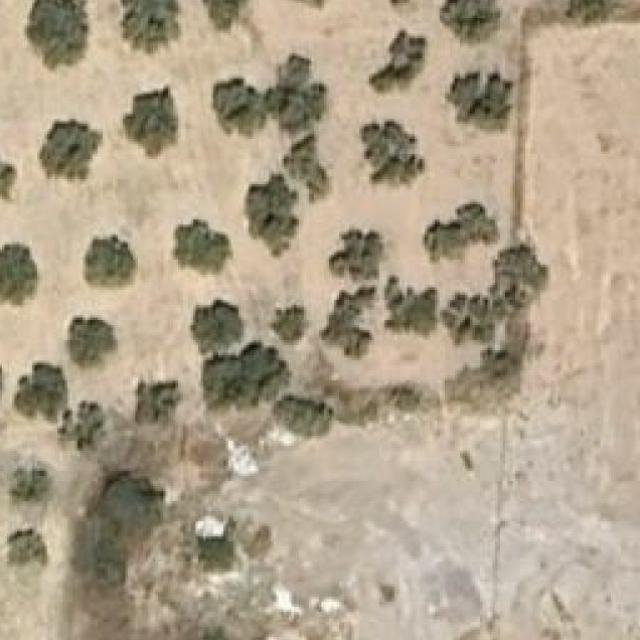Tree: (203, 340, 292, 411), (356, 117, 425, 190), (24, 0, 91, 70), (245, 174, 304, 253), (425, 197, 500, 258), (39, 117, 103, 180), (120, 87, 175, 160), (100, 471, 163, 534), (447, 70, 512, 129), (321, 288, 374, 358), (369, 31, 428, 92), (274, 58, 322, 129), (120, 0, 184, 53), (276, 388, 336, 441), (0, 239, 46, 307), (17, 360, 66, 421), (67, 315, 118, 373), (84, 234, 138, 288), (494, 244, 548, 298), (328, 227, 381, 281), (190, 300, 244, 353), (381, 285, 437, 335), (440, 0, 504, 40), (180, 224, 229, 275), (294, 141, 334, 199), (135, 375, 180, 426), (218, 83, 264, 132), (445, 298, 495, 343), (195, 516, 236, 570), (64, 403, 108, 447), (269, 305, 309, 348), (9, 461, 49, 504), (7, 528, 47, 566), (197, 0, 251, 28), (570, 0, 616, 20), (0, 149, 15, 202)
